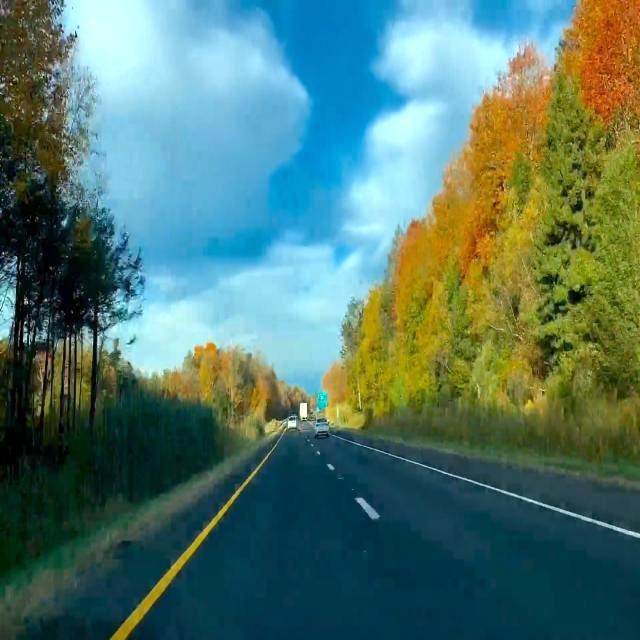lane: (110, 435, 282, 639), (332, 436, 640, 539), (355, 498, 379, 520)
road: (130, 432, 639, 639), (2, 450, 264, 639), (360, 440, 639, 530)
